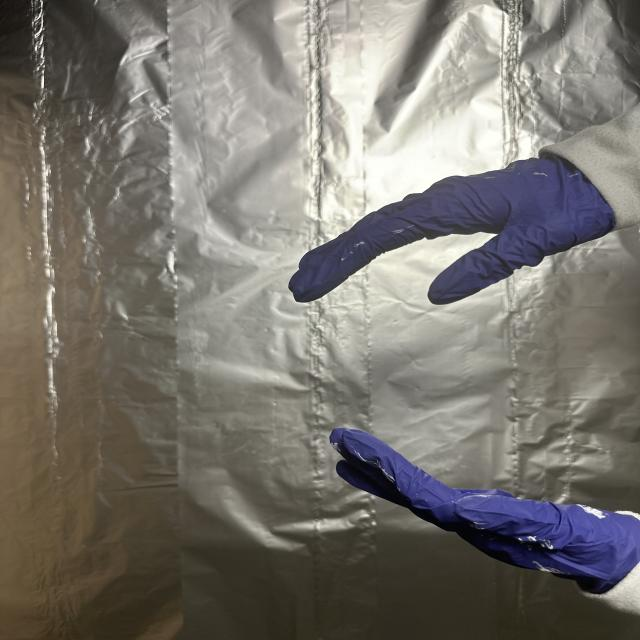gloves_contaminated: (330, 428, 640, 596), (290, 155, 614, 305)
